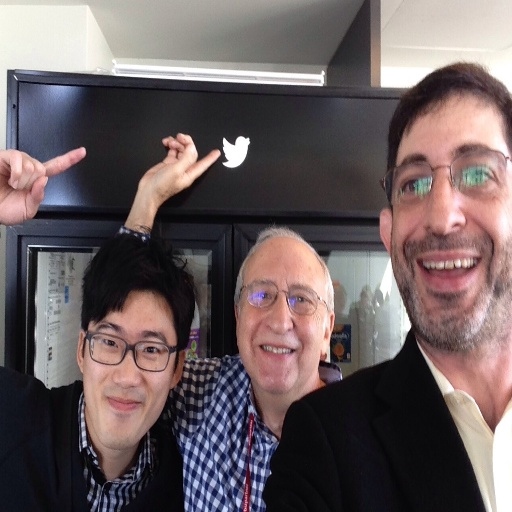hand: (134, 131, 222, 206), (3, 139, 64, 211)
